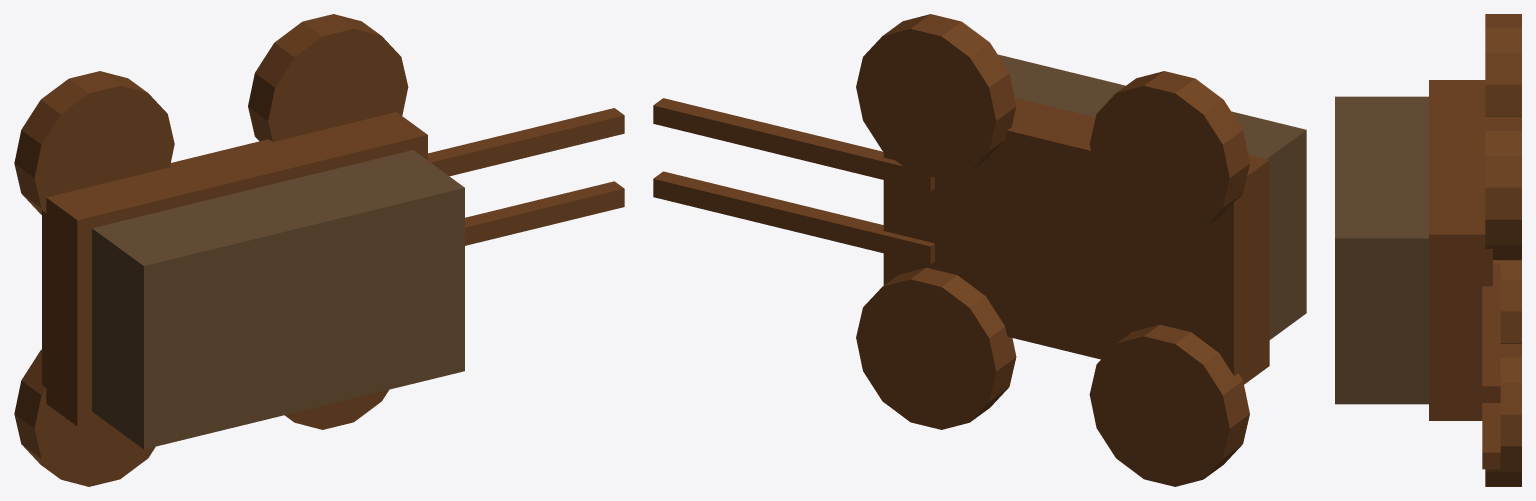
The model's file is SM_ShCartLoaded.obj.
3 views of the same model, side by side, from view 1: azimuth 30°, elevation 25°; view 2: azimuth 150°, elevation 25°; view 3: azimuth 270°, elevation 25° (orthographic). The views are drawn at different scales.
Bounding box in the file's own units: 403 × 258 × 122.
